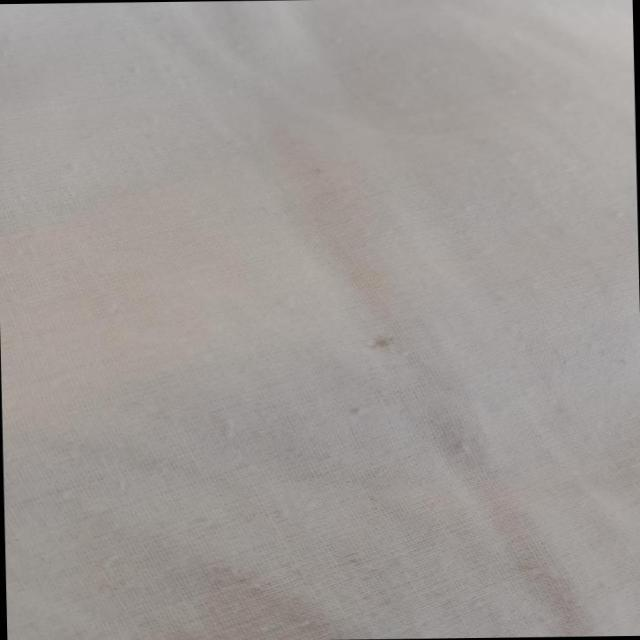stain: (363, 325, 409, 357)
